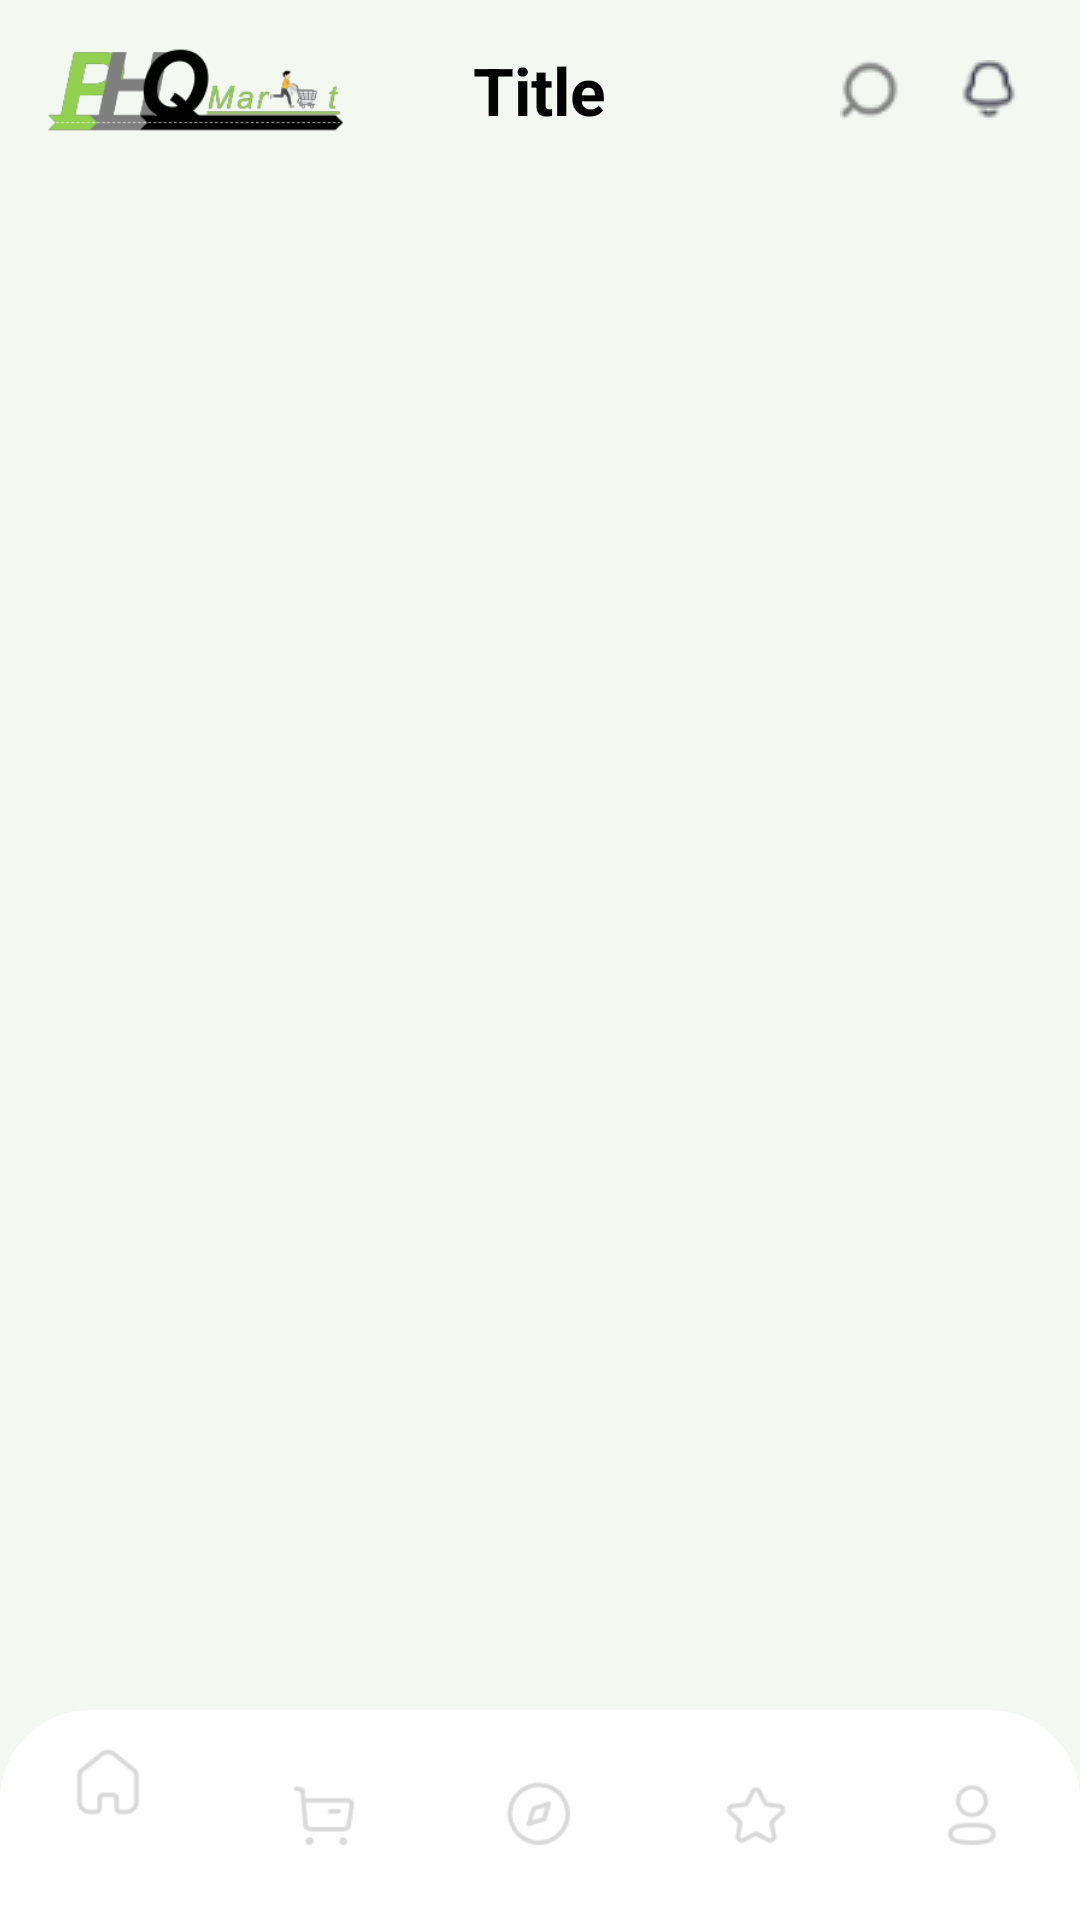

Named icons in this screenshot (1080 × 1920) and their centers, [x,y]:
notification: [988,89]
search: [869,90]
